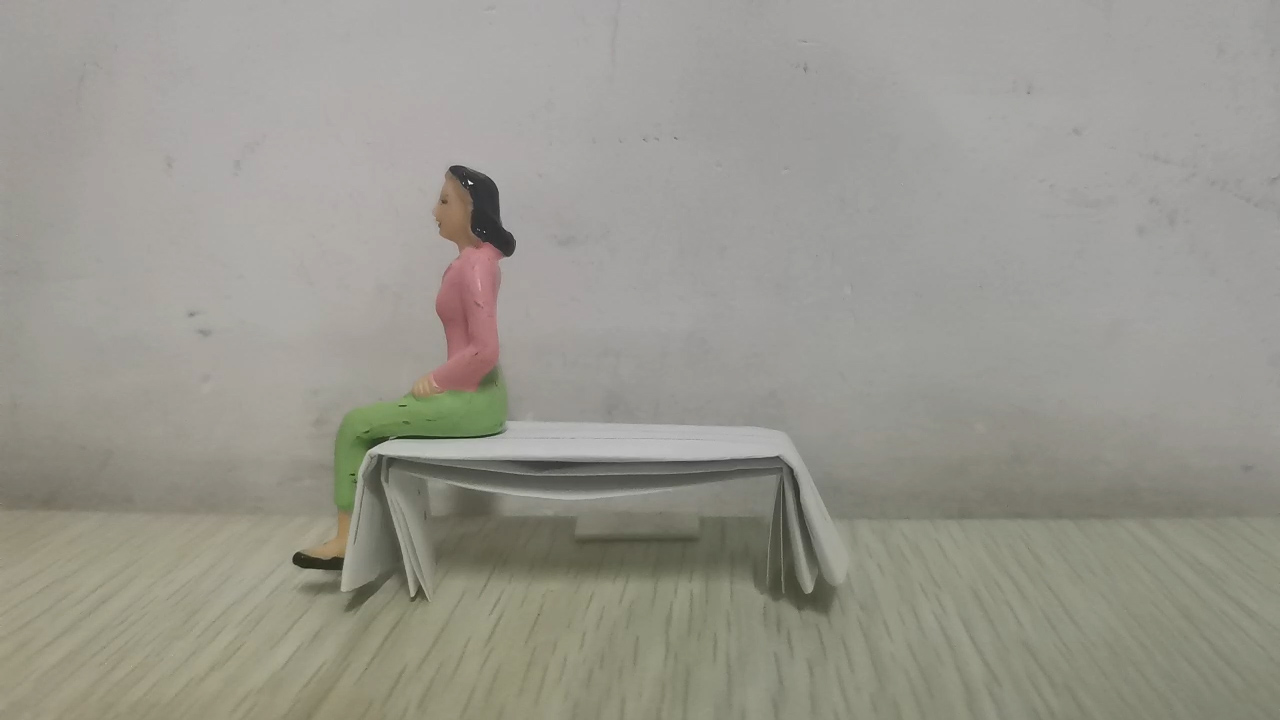person: (290, 164, 515, 572)
